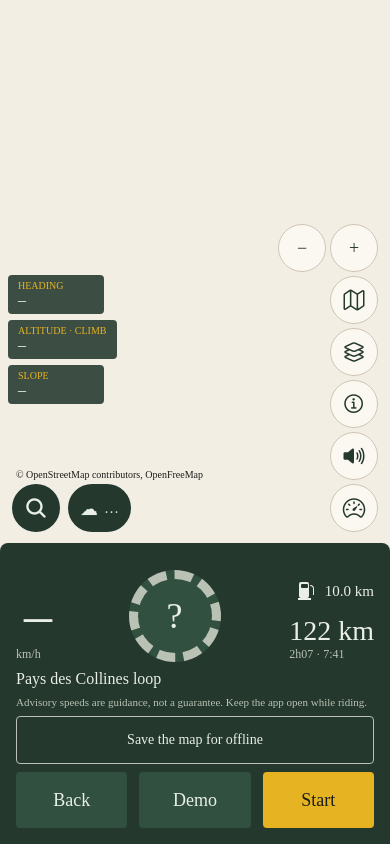
it: the card lists the stations, the longest stretch and the range, and the range goes round and is kept
Click the button with test id "fuel-chip" at (335, 591), box [297,567,374,615]
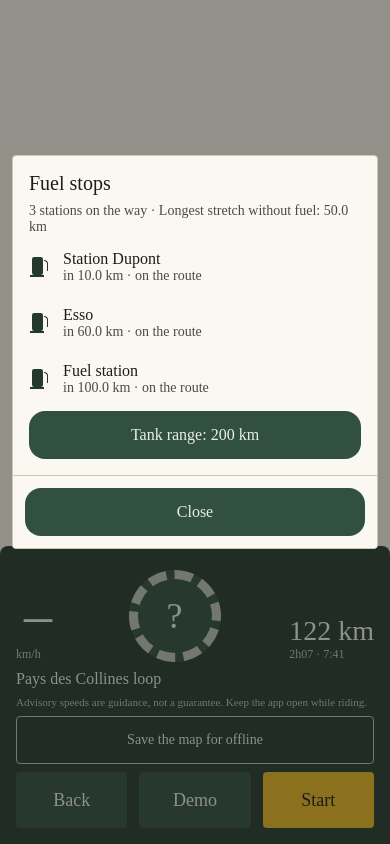
Result: the text "Fuel stops" is shown at [29,172,111,194]
Result: the text "3 stations on the way · Longest stretch without fuel: " is shown at [29,203,352,234]
Result: the text "Station Dupont" is shown at [63,250,160,267]
Click the button labelled "Tank range: 200 km" at (195, 435), box [29,411,361,459]
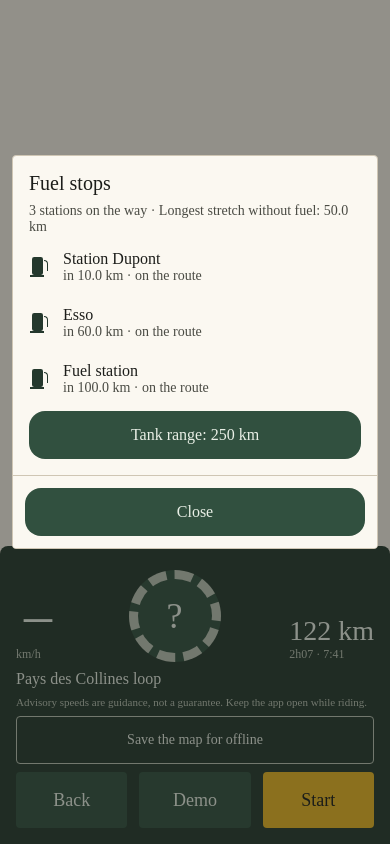
Click the button labelled "Close" at (195, 512), box [25,488,365,536]
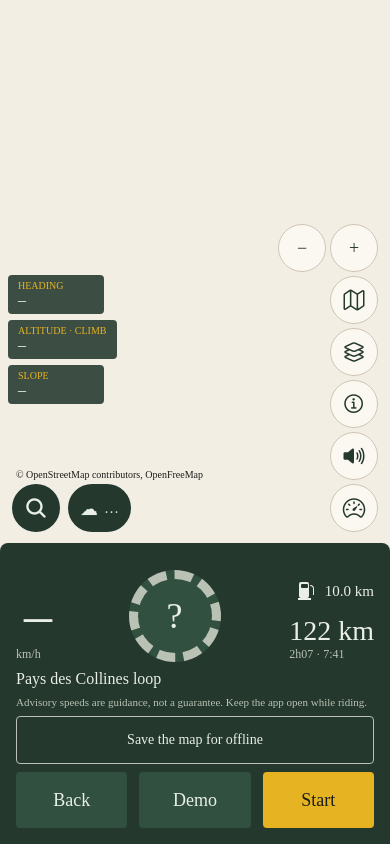
Result: the element with test id "sheet" is gone
